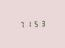five: (32, 19, 38, 27)
one: (25, 20, 31, 28)
seven: (18, 20, 24, 28)
three: (39, 19, 45, 27)
